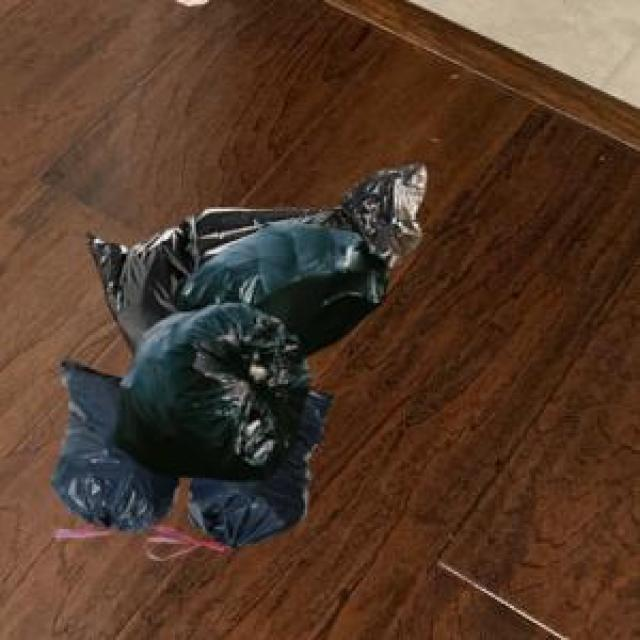waste: (52, 164, 428, 559)
